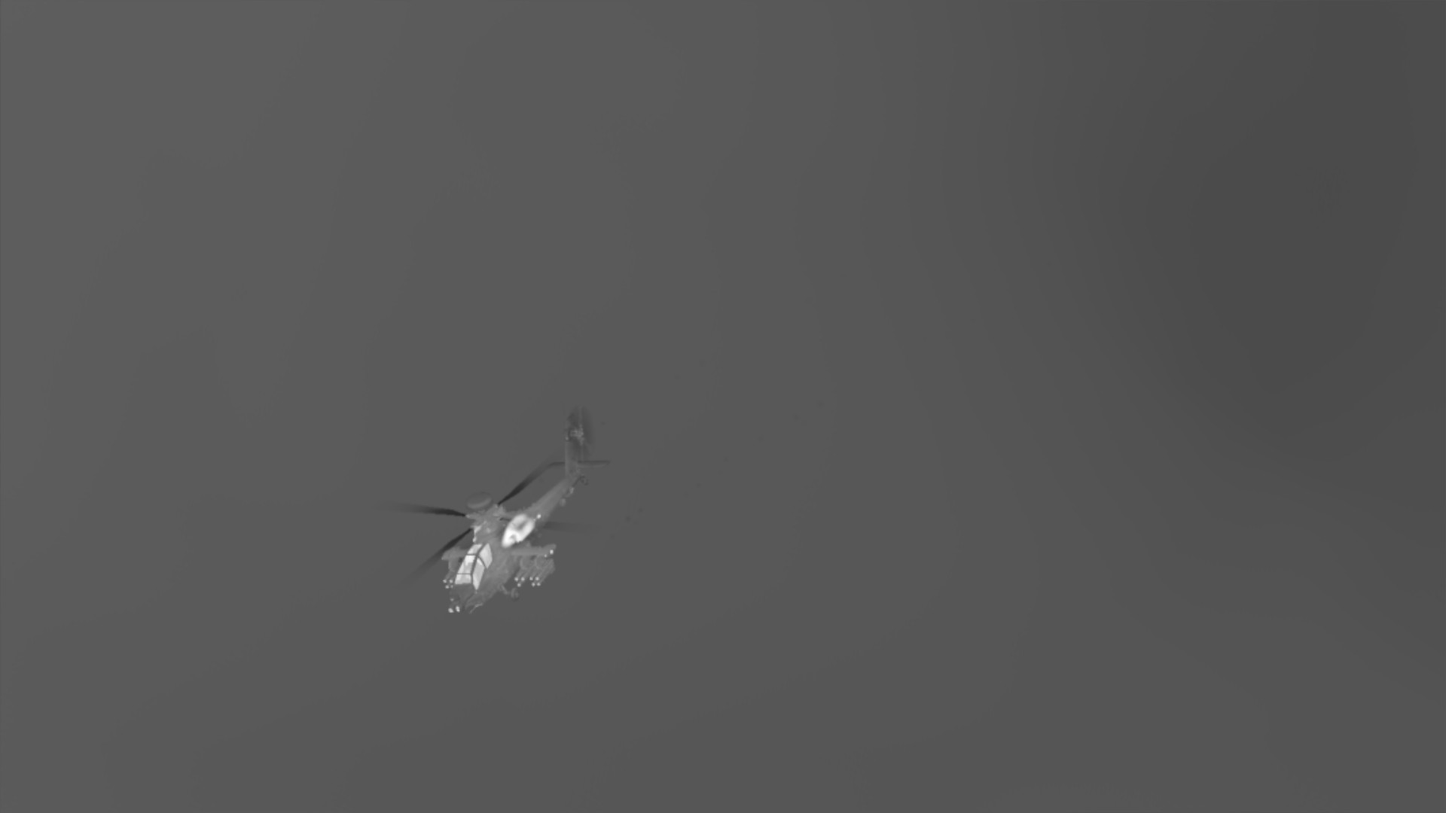ah64: (367, 405, 613, 618)
